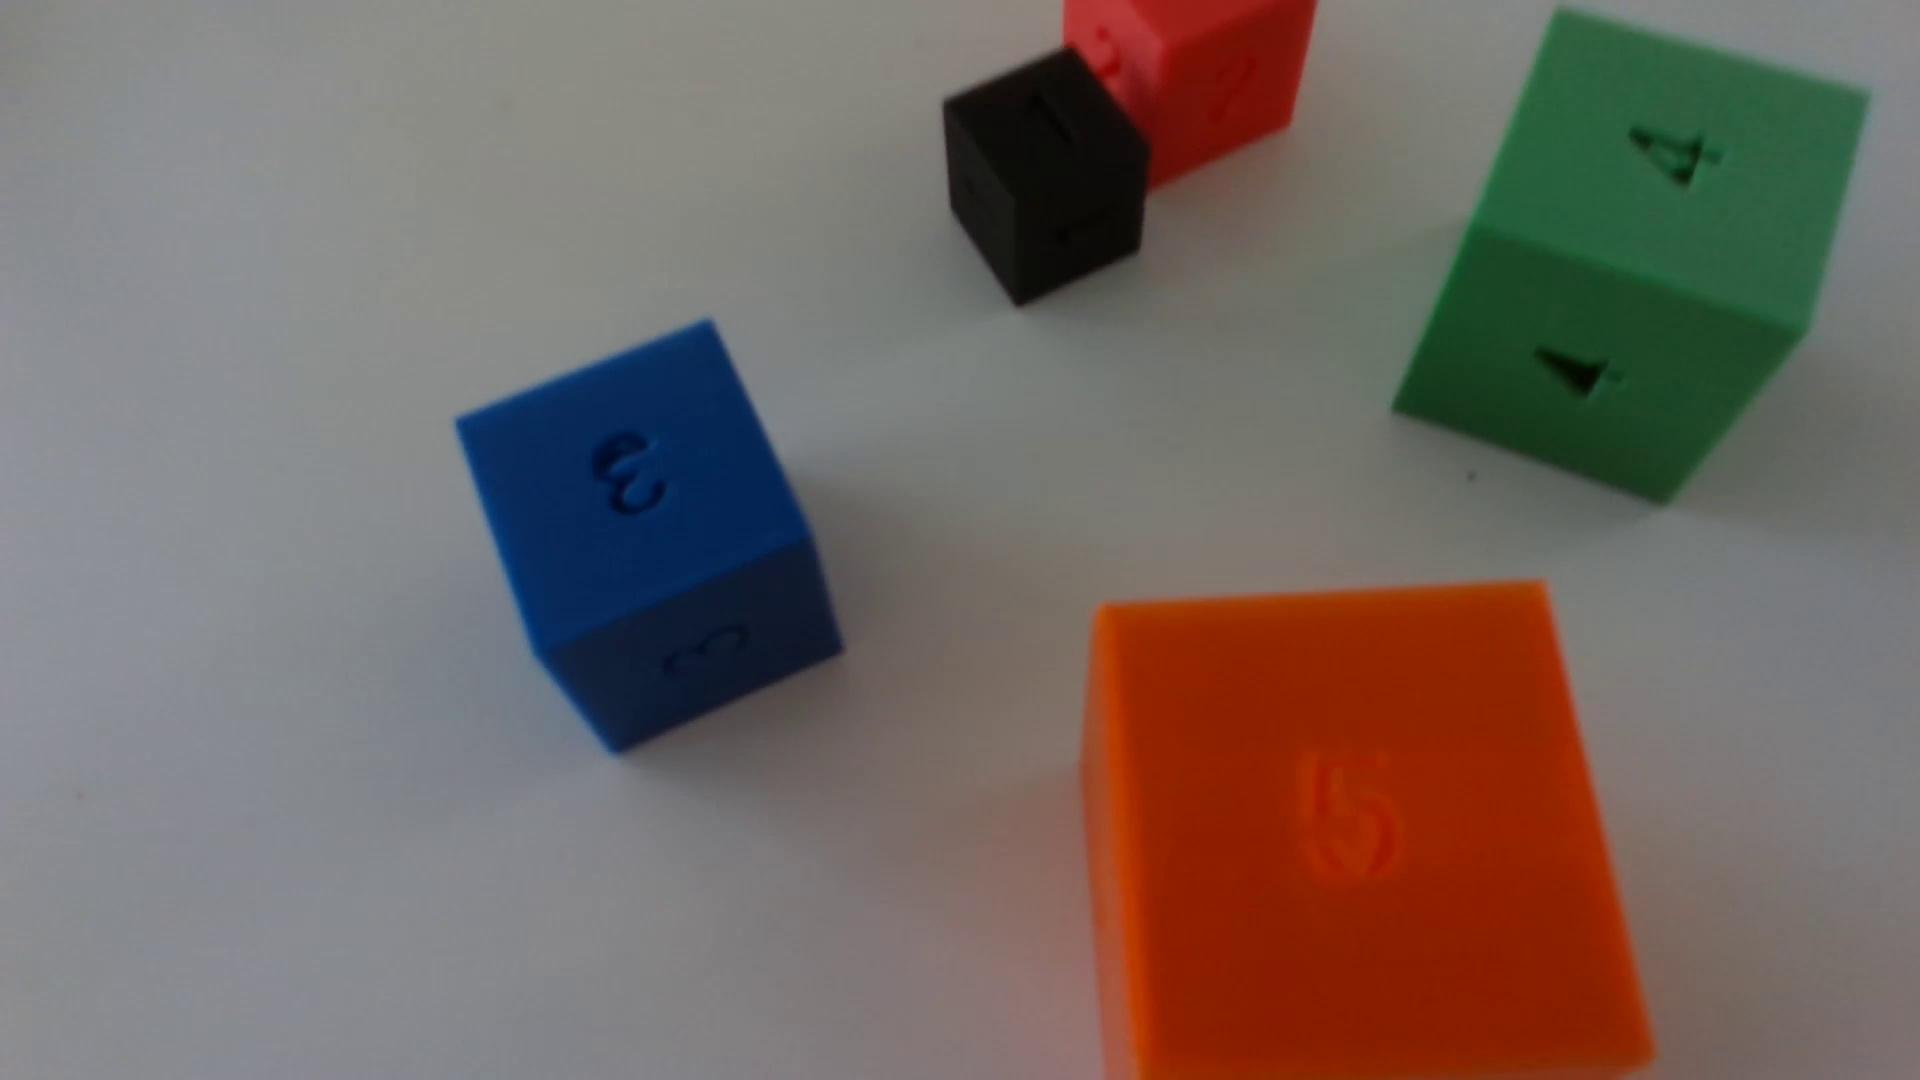black: (942, 47, 1149, 307)
blue: (458, 323, 841, 753)
green: (1394, 11, 1867, 504)
orange: (1083, 583, 1654, 1080)
red: (1062, 0, 1317, 189)
